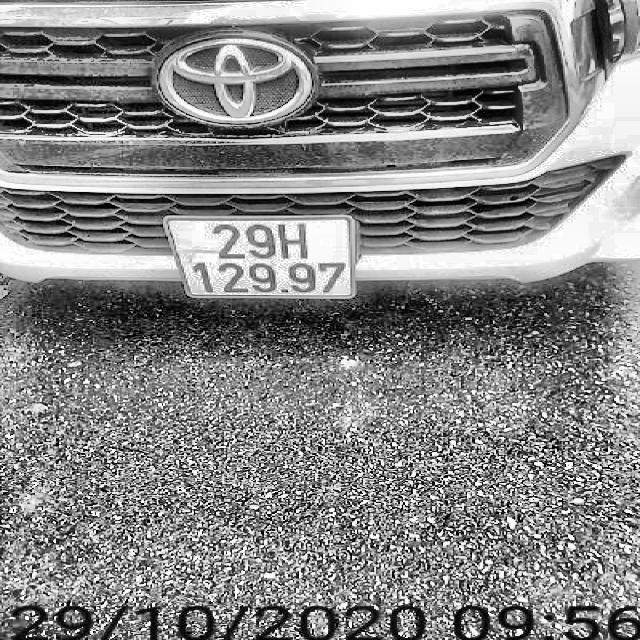plate: (158, 209, 364, 305)
